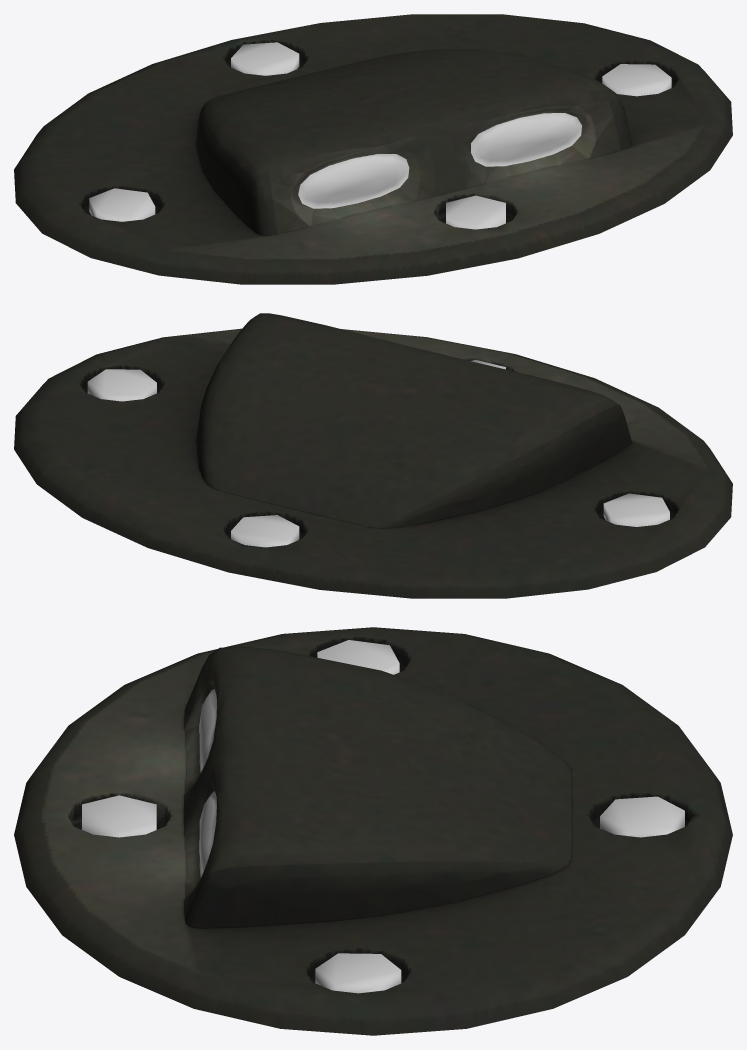
Rendered from unterflurfeuer_weiss.fbx.
3 views of the same model, one above another, from view 1: azimuth 30°, elevation 25°; view 2: azimuth 150°, elevation 25°; view 3: azimuth 270°, elevation 25° (orthographic). The views are drawn at different scales.
Parts seen in each view (by area): view 1: Mesh; view 2: Mesh; view 3: Mesh.
Part boxes in pixels (x1,y1,x2,y2): Mesh: [14, 14, 732, 284]; Mesh: [14, 313, 732, 598]; Mesh: [14, 627, 732, 1035].
Size of the model in its own units: 31.36 by 3.31 by 23.72.
